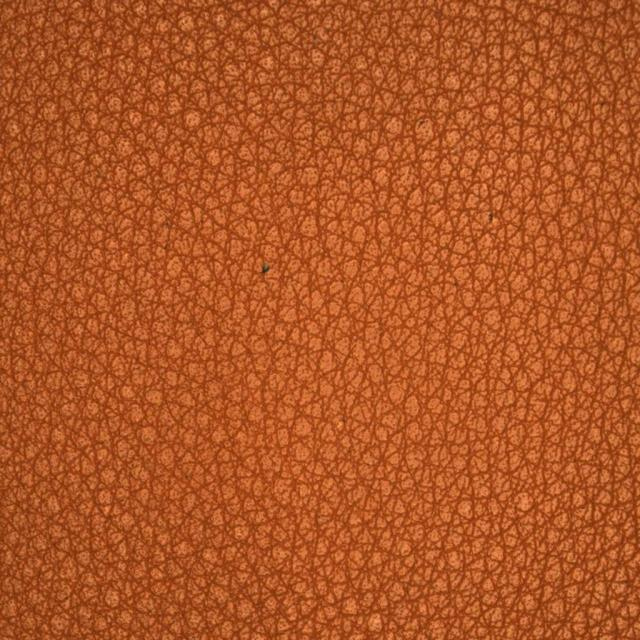Hole: (168, 190, 344, 346)
